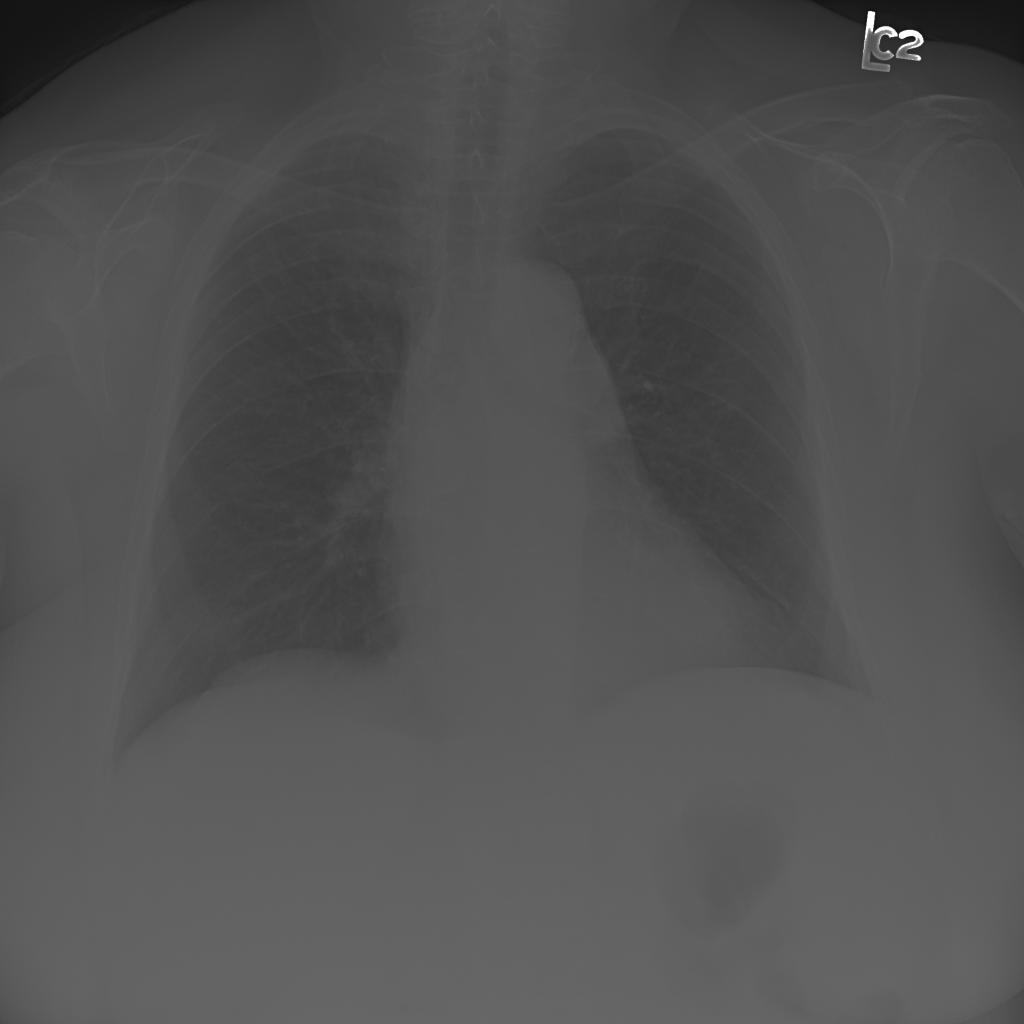Nodule: (166, 174, 197, 231), (101, 303, 129, 332)
